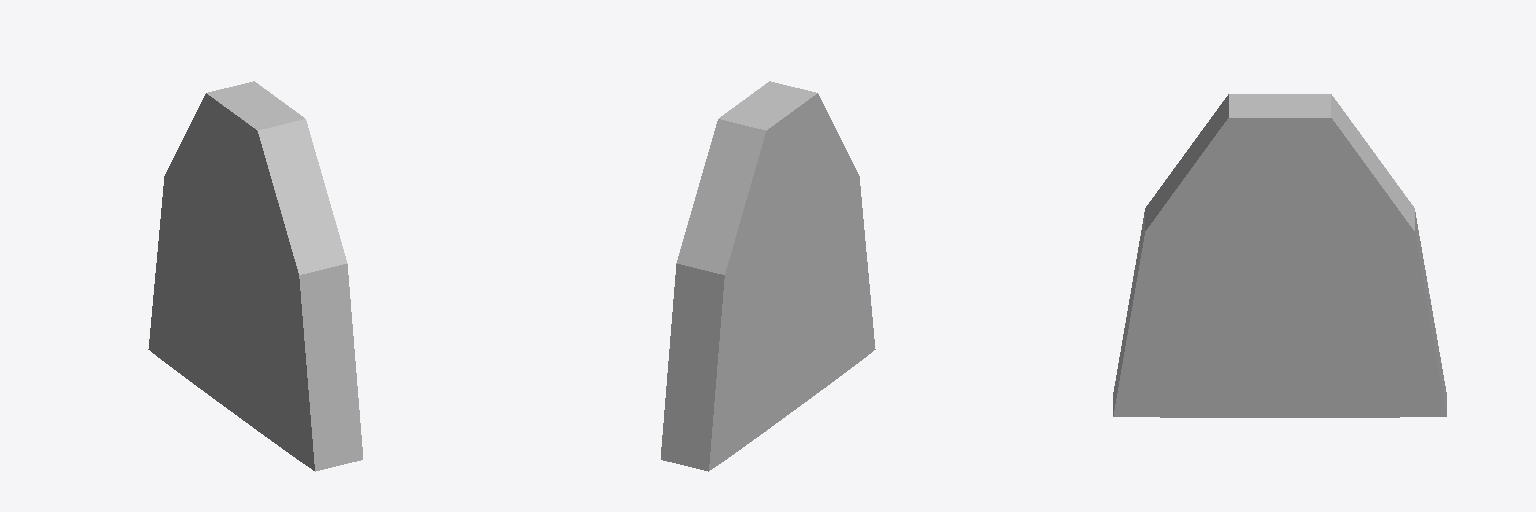
Rendered from OldSafeBox.obj.
3 renders of one model, left to right at view 1: azimuth 30°, elevation 25°; view 2: azimuth 150°, elevation 25°; view 3: azimuth 270°, elevation 25°, orthographic.
Parts seen in each view (by area): view 1: OldSafeBox; view 2: OldSafeBox; view 3: OldSafeBox.
Part boxes in pixels (bbox=[...]): OldSafeBox: bbox=[148, 81, 362, 471]; OldSafeBox: bbox=[661, 81, 875, 471]; OldSafeBox: bbox=[1113, 94, 1446, 417].
Size of the model in its own units: 1.3 by 7.69 by 7.74.